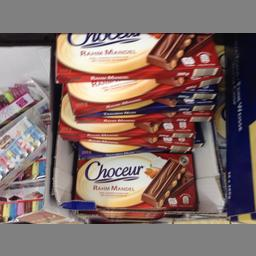chocolate: (54, 32, 224, 82), (74, 151, 196, 210)
